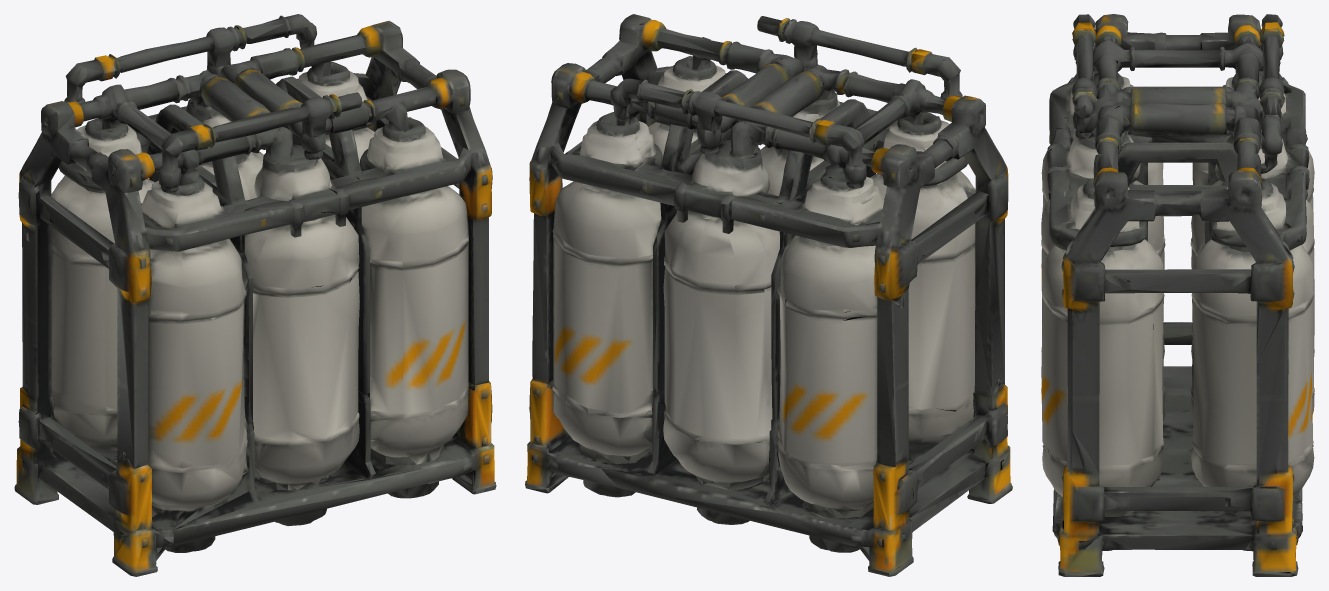
File: 01_propellant_tank_cluster.fbx
3 views of the same model, side by side, from view 1: azimuth 30°, elevation 25°; view 2: azimuth 150°, elevation 25°; view 3: azimuth 270°, elevation 25° (orthographic). The views are drawn at different scales.
Parts seen in each view (by area): view 1: 01_propellant_tank_cluster; view 2: 01_propellant_tank_cluster; view 3: 01_propellant_tank_cluster.
Boxes of the visible parts, <box> form: 01_propellant_tank_cluster: <box>14,14,496,576</box>; 01_propellant_tank_cluster: <box>525,14,1012,576</box>; 01_propellant_tank_cluster: <box>1041,14,1314,576</box>.
Size of the model in its own units: 2.13 by 2.3 by 1.38.
1 material, 1 textured.
